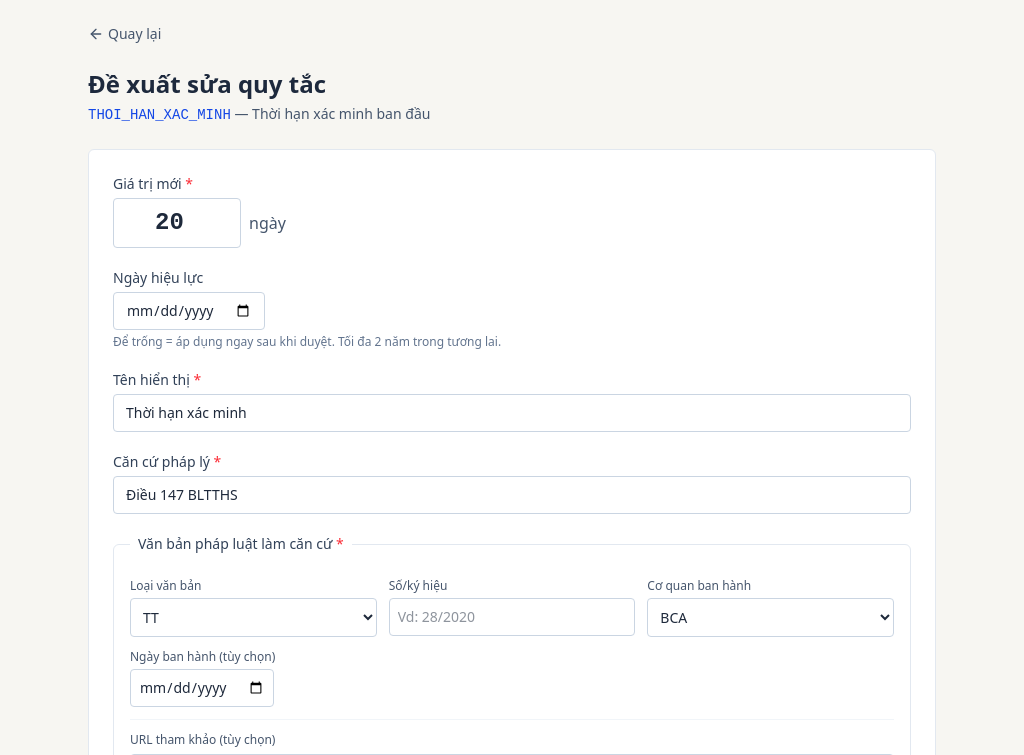
Test case: ProposeDeadlineRulePage › shows inline field errors + summary block when validation fails on click
This screenshot has width=1024, height=755.
Step 1. Clear the field with test id "input-label" → (512, 413), box [113,394,911,432]
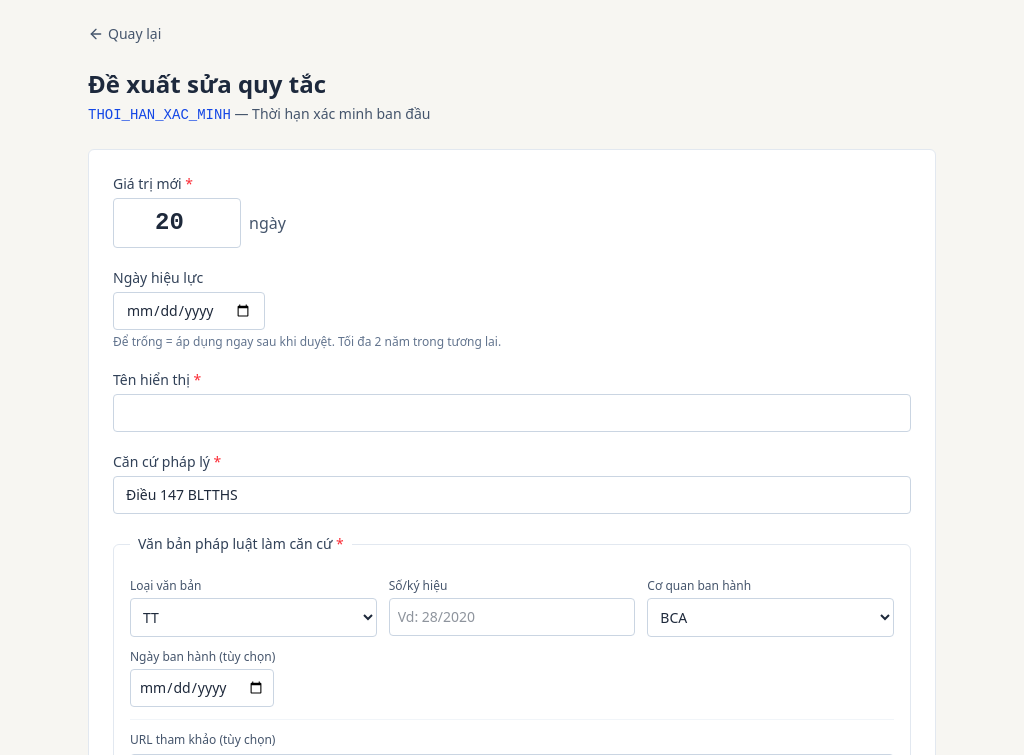
Step 2. Clear the field with test id "input-doc-number" → (512, 617), box [389,598,635,636]
(page scrolled)
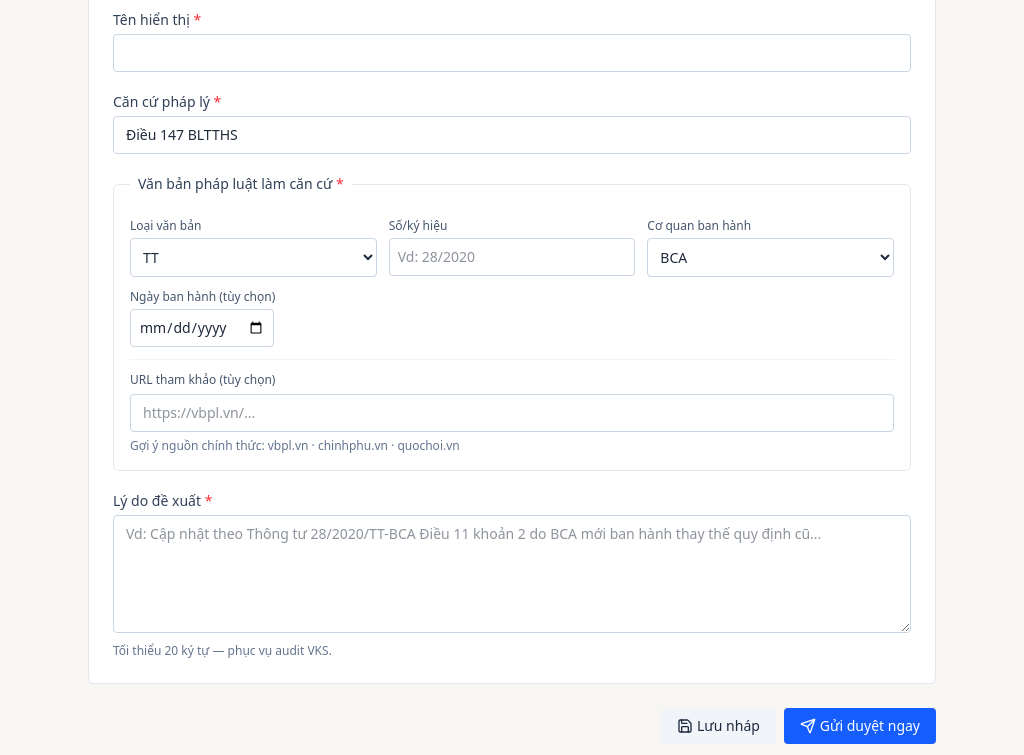
Step 3. Replace the text in the text box with test id "input-reason" with "short" → (512, 574), box [113,515,911,633]
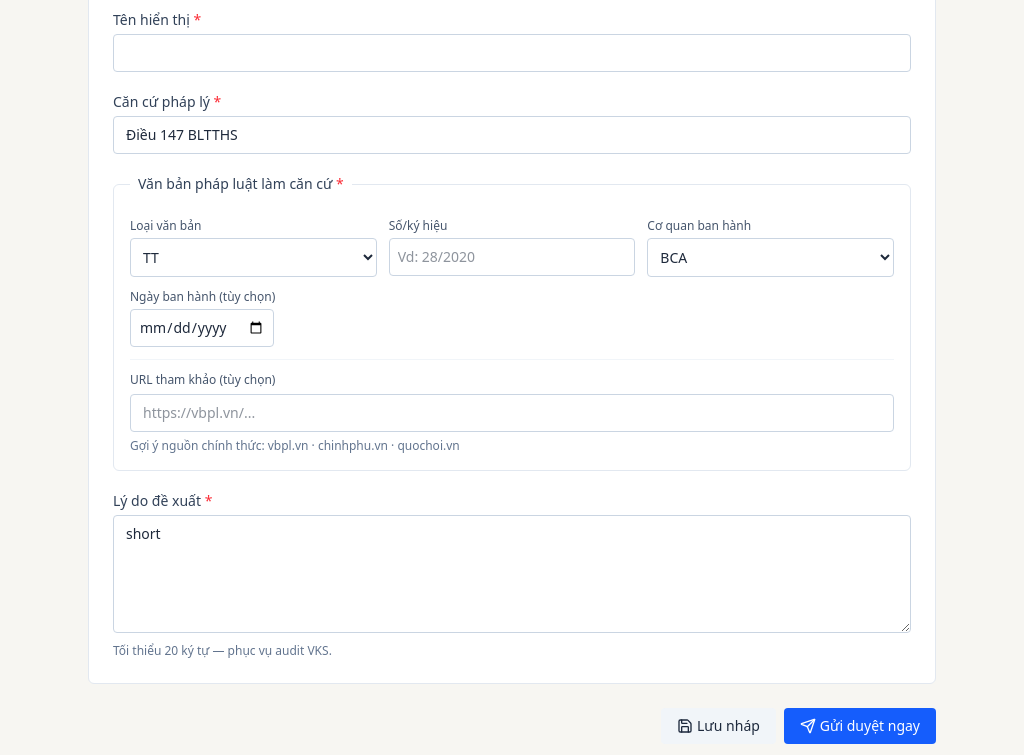
Step 4. Click the button with test id "btn-save-draft" → click(718, 726), box [661,708,776,744]
(page scrolled)
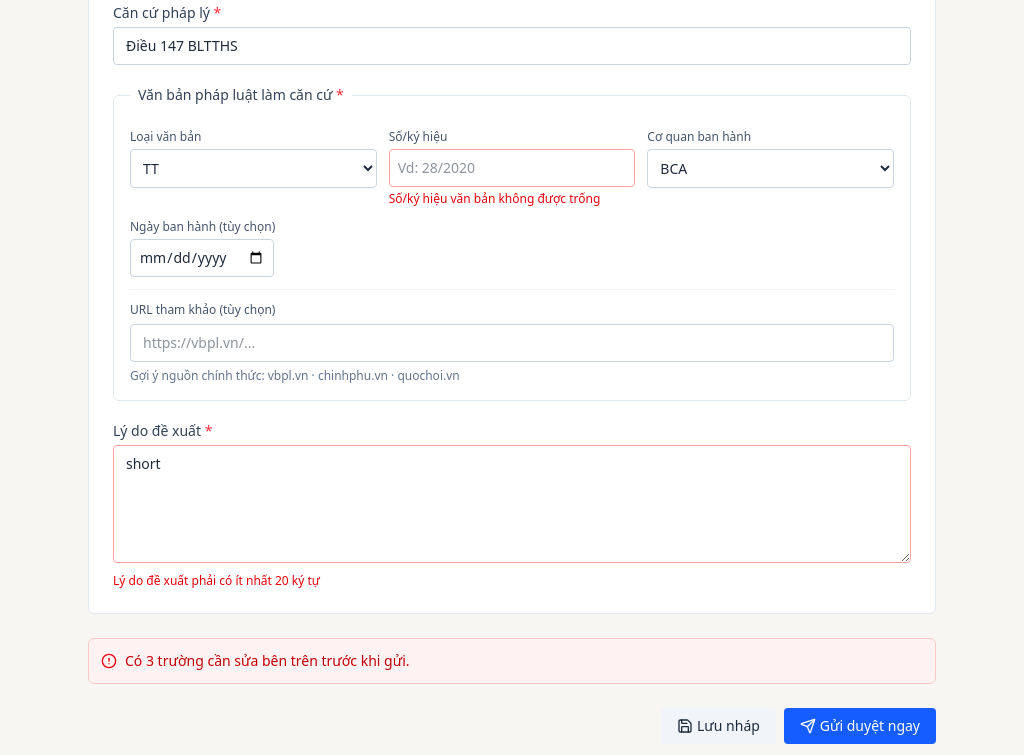
Now the text "Số/ký hiệu văn bản không được trống" is shown, box [389,191,635,207]
Now the text "Lý do đề xuất phải có ít nhất 20 ký tự" is shown, box [113,572,320,589]
Now the message "Có 3 trường cần sửa bên trên trước khi gửi." is shown, box [88,638,936,684]
